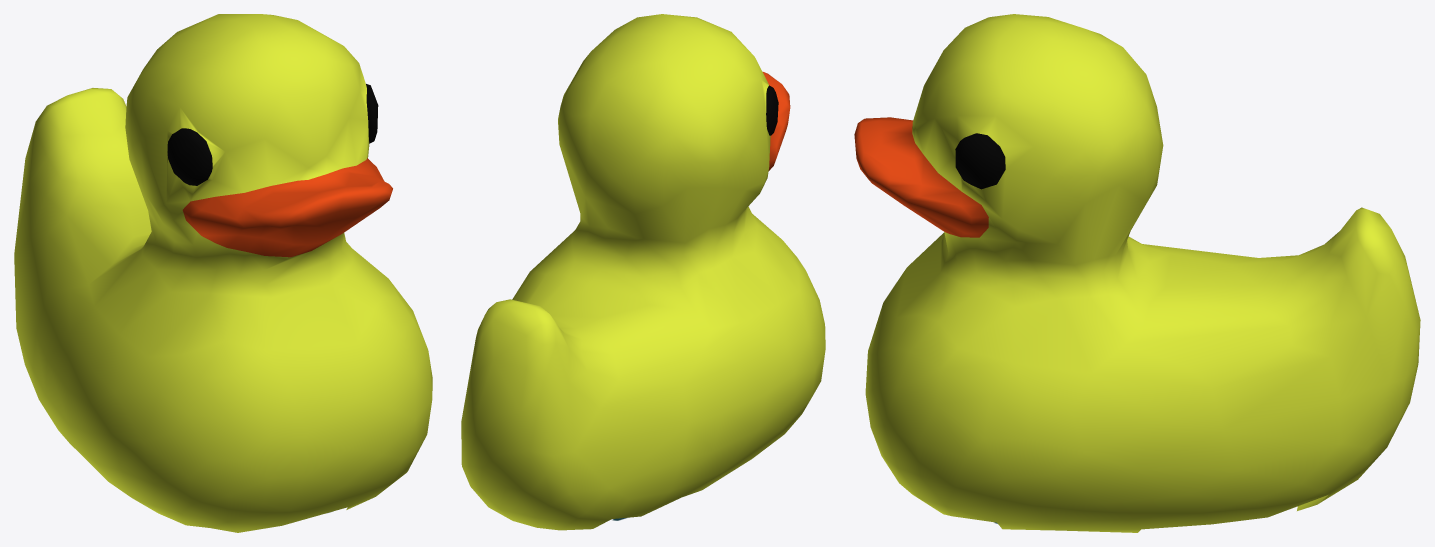
Rendered from simpleDuck3.glb.
3 views of the same model, side by side, from view 1: azimuth 30°, elevation 25°; view 2: azimuth 150°, elevation 25°; view 3: azimuth 270°, elevation 25° (orthographic). The views are drawn at different scales.
Parts seen in each view (by area): view 1: Cube.001; view 2: Cube.001; view 3: Cube.001.
Part boxes in pixels (x1,y1,x2,y2): Cube.001: (14, 14, 432, 532); Cube.001: (461, 14, 825, 530); Cube.001: (854, 14, 1420, 532).
Bounding box in the file's own units: 2.57 × 3.88 × 4.12.
Materials: 4 (1 with a texture image).
